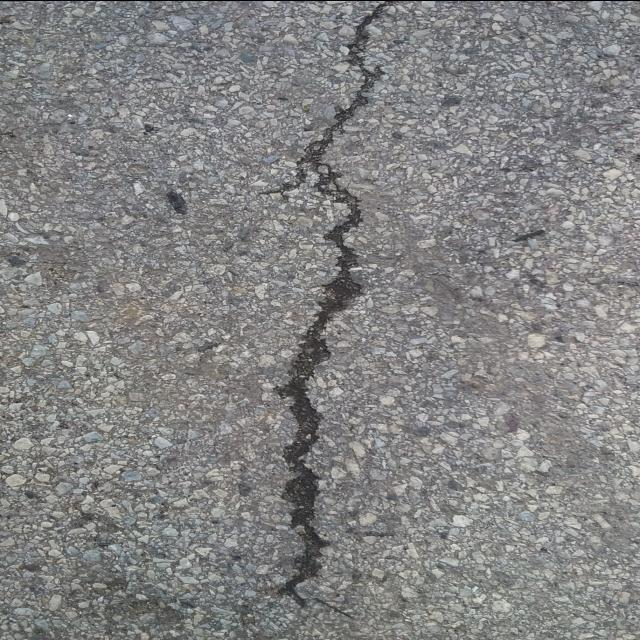Crack: (260, 0, 396, 606)
